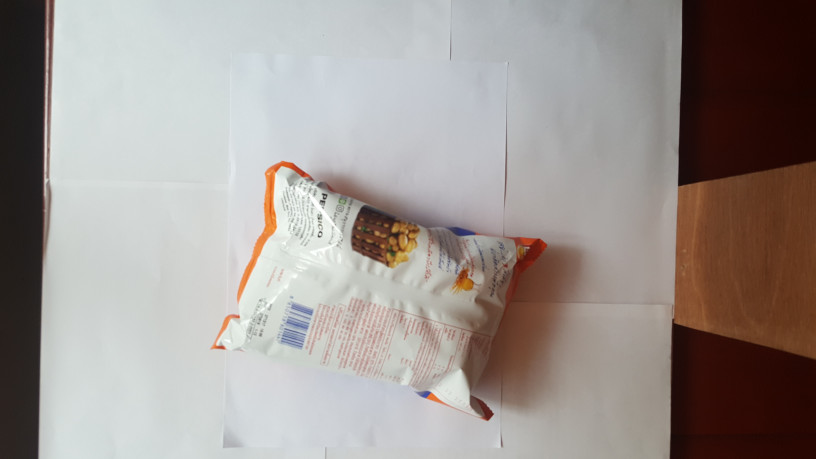lays-bbq: (202, 159, 551, 420)
